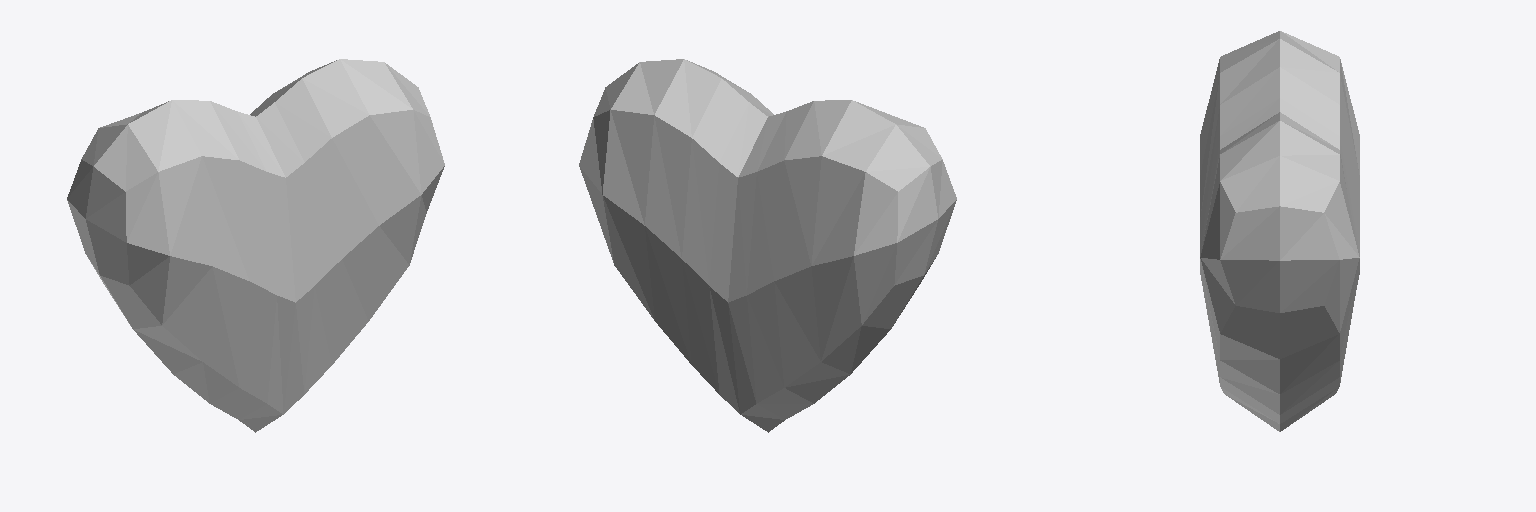
File: Heart.obj
The picture shows the model from 3 angles: view 1: azimuth 30°, elevation 25°; view 2: azimuth 150°, elevation 25°; view 3: azimuth 270°, elevation 25°; orthographic projection.
Visible parts, largest first — view 1: pCube1; view 2: pCube1; view 3: pCube1.
Boxes of the visible parts, x1,y1,x2,y2 form: pCube1: [67, 59, 444, 432]; pCube1: [579, 59, 956, 432]; pCube1: [1200, 31, 1359, 431].
Bounding box in the file's own units: 0.7318 × 0.7242 × 0.2965.